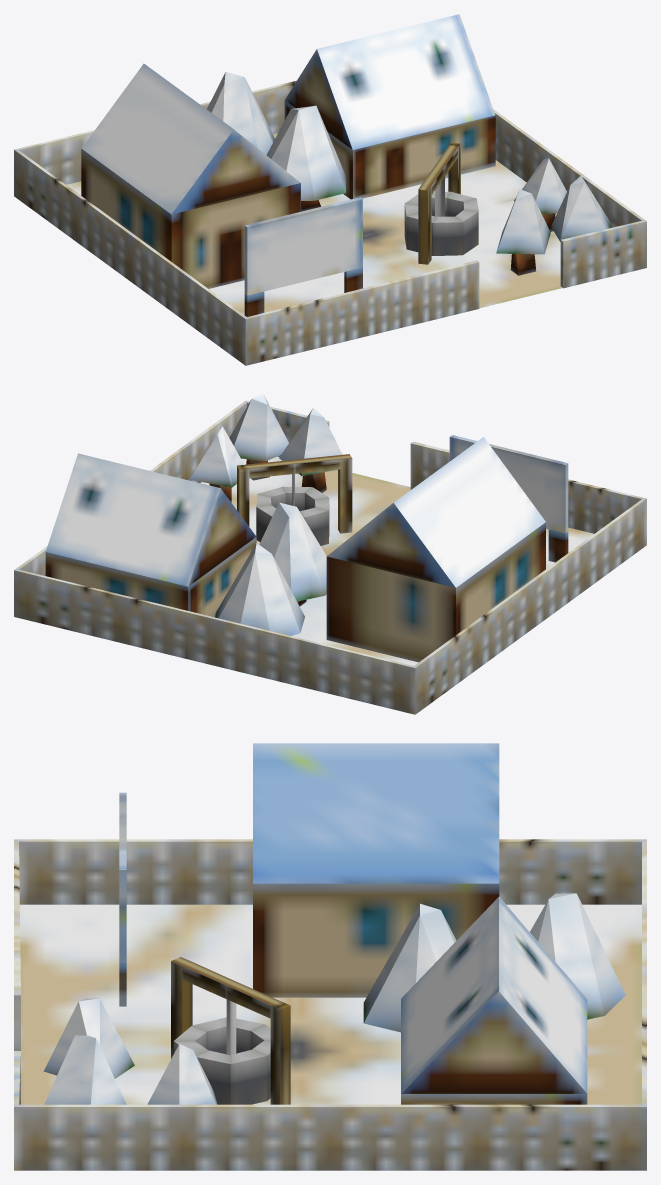
The model's file is Poly_World_Map_Town_House_04_Snow.obj.
3 renders of one model, top to bottom at view 1: azimuth 30°, elevation 25°; view 2: azimuth 150°, elevation 25°; view 3: azimuth 270°, elevation 25°, orthographic. The views are drawn at different scales.
Parts seen in each view (by area): view 1: Grid.001, Cube.002_Cube.001_Cube.002_Cube.004, Cube_Cube.001_Cube_Cube.004, Plane.001, Cube.001_Cube.002_Cube.001_Cube.003, Cube_Cube.003_Cube_Cube.001, Cube.003_Cube.001, Cube.004_Cube.001; view 2: Grid.001, Cube.002_Cube.001_Cube.002_Cube.004, Cube_Cube.001_Cube_Cube.004, Cube.001_Cube.002_Cube.001_Cube.003, Plane.001, Cube_Cube.003_Cube_Cube.001, Cube.004_Cube.001, Cube.003_Cube.001; view 3: Grid.001, Cube.002_Cube.001_Cube.002_Cube.004, Plane.001, Cube_Cube.001_Cube_Cube.004, Cube.001_Cube.002_Cube.001_Cube.003, Cube.004_Cube.001, Cube.003_Cube.001, Cube_Cube.003_Cube_Cube.001.
Part boxes in pixels (<box>): Grid.001: <box>14,80,646,365</box>; Cube.002_Cube.001_Cube.002_Cube.004: <box>81,63,300,288</box>; Cube_Cube.001_Cube_Cube.004: <box>284,14,495,199</box>; Plane.001: <box>66,133,562,314</box>; Cube.001_Cube.002_Cube.001_Cube.003: <box>207,72,610,275</box>; Cube_Cube.003_Cube_Cube.001: <box>244,197,362,316</box>; Cube.003_Cube.001: <box>404,191,478,255</box>; Cube.004_Cube.001: <box>418,142,460,264</box>; Grid.001: <box>14,400,646,714</box>; Cube.002_Cube.001_Cube.002_Cube.004: <box>326,437,545,662</box>; Cube_Cube.001_Cube_Cube.004: <box>45,453,256,617</box>; Cube.001_Cube.002_Cube.001_Cube.003: <box>189,394,342,635</box>; Plane.001: <box>200,456,593,665</box>; Cube_Cube.003_Cube_Cube.001: <box>449,435,568,562</box>; Cube.004_Cube.001: <box>237,454,352,533</box>; Cube.003_Cube.001: <box>256,486,329,545</box>; Grid.001: <box>14,839,646,1170</box>; Cube.002_Cube.001_Cube.002_Cube.004: <box>253,743,499,997</box>; Plane.001: <box>19,904,641,1104</box>; Cube_Cube.001_Cube_Cube.004: <box>401,897,587,1104</box>; Cube.001_Cube.002_Cube.001_Cube.003: <box>43,893,625,1104</box>; Cube.004_Cube.001: <box>171,957,290,1104</box>; Cube.003_Cube.001: <box>173,1017,270,1104</box>; Cube_Cube.003_Cube_Cube.001: <box>119,792,126,1006</box>.
Bounding box in the file's own units: 0.9 × 0.331 × 0.9.
Materials: 1 (1 with a texture image).
